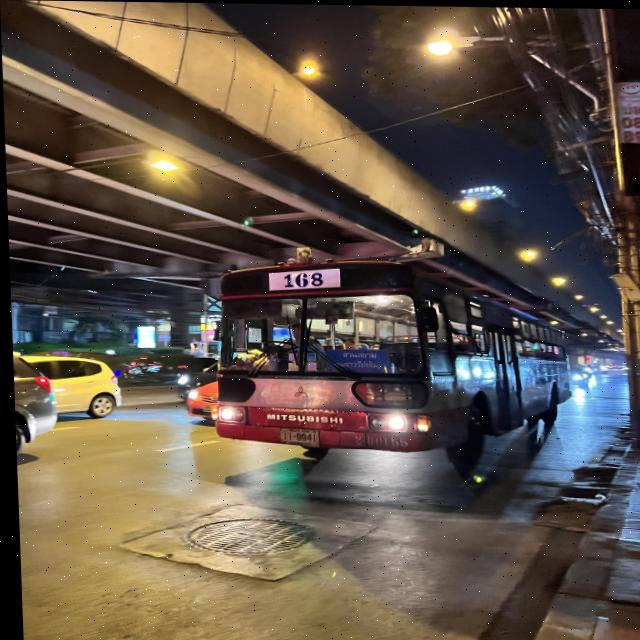BMTA-bus: (210, 263, 566, 476)
Bus Line Number: (278, 271, 327, 289)
Bus Side Number: (346, 432, 408, 450)
Destination Sign: (322, 348, 390, 375)
